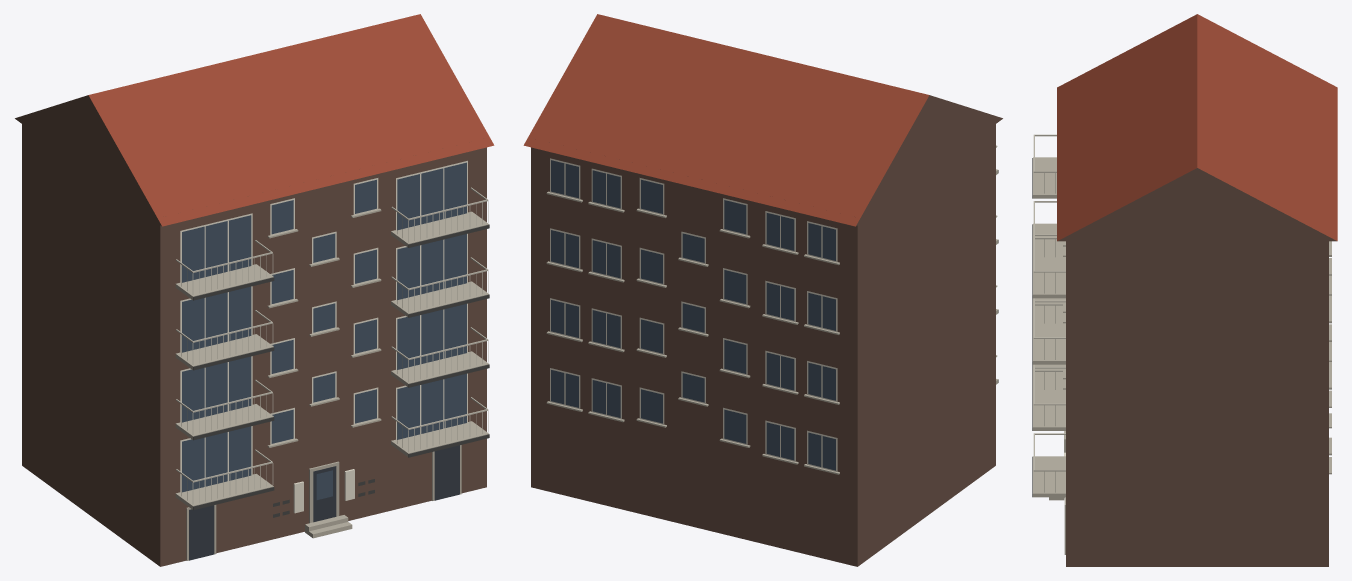
Rendered from nw-portiek-wide-core-beekenhoff__brick-red__5__gable__long__solid.glb.
3 renders of one model, left to right at view 1: azimuth 30°, elevation 25°; view 2: azimuth 150°, elevation 25°; view 3: azimuth 270°, elevation 25°, orthographic. The views are drawn at different scales.
Parts seen in each view (by area): view 1: nw-portiek-wide-core-beekenhoff__brick-red__5__gable__long__; view 2: nw-portiek-wide-core-beekenhoff__brick-red__5__gable__long__; view 3: nw-portiek-wide-core-beekenhoff__brick-red__5__gable__long__.
Part boxes in pixels (box(x1,y1,x2,y2)): nw-portiek-wide-core-beekenhoff__brick-red__5__gable__long__: box(15, 14, 494, 566); nw-portiek-wide-core-beekenhoff__brick-red__5__gable__long__: box(523, 14, 1002, 566); nw-portiek-wide-core-beekenhoff__brick-red__5__gable__long__: box(1032, 14, 1337, 566).
Size of the model in its own units: 14.37 by 17.43 by 12.05.
